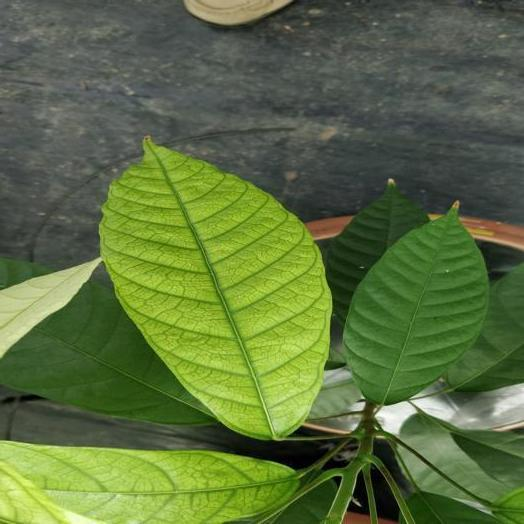Healthy Leaf: (0, 261, 222, 423), (344, 208, 488, 404), (326, 180, 427, 324), (447, 263, 523, 392)
Iron: (99, 138, 331, 438), (0, 441, 299, 523), (0, 258, 100, 358)
